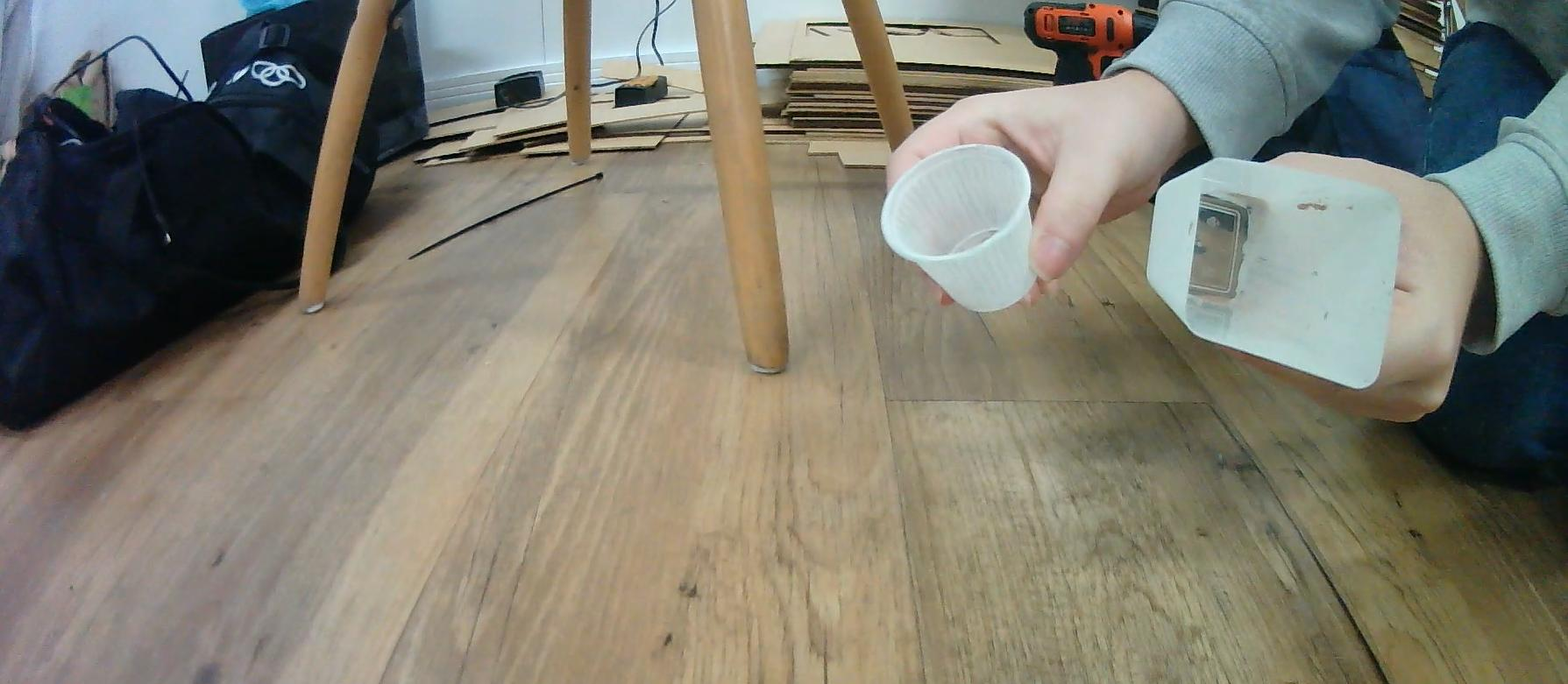erva_daninha: (1146, 157, 1400, 391)
planta: (880, 143, 1035, 314)
